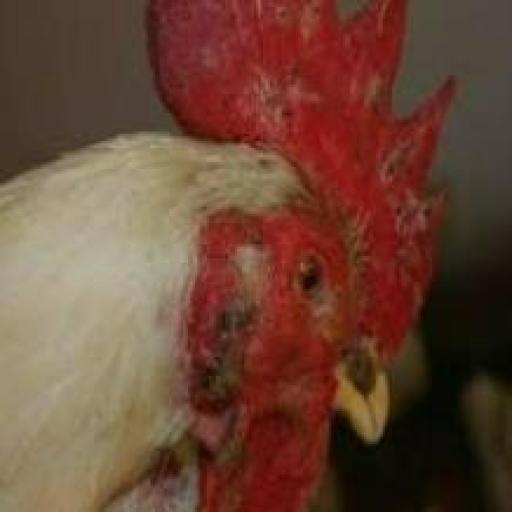disease: (195, 242, 309, 406), (190, 38, 323, 142), (385, 144, 448, 336), (153, 413, 259, 495), (301, 187, 382, 284), (341, 330, 398, 400), (352, 52, 395, 120)
